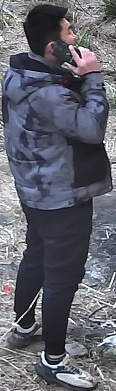phone: (14, 0, 113, 142)
